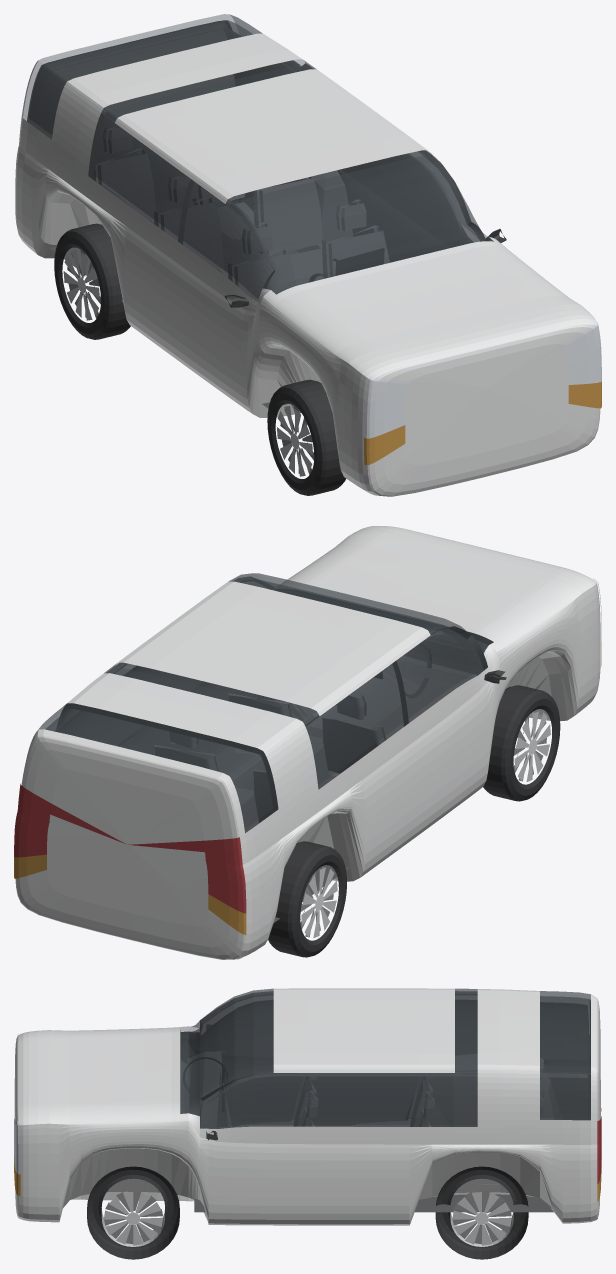
File: vehicle.glb
3 renders of one model, top to bottom at view 1: azimuth 30°, elevation 25°; view 2: azimuth 150°, elevation 25°; view 3: azimuth 270°, elevation 25°, orthographic. The views are drawn at different scales.
Parts seen in each view (by area): view 1: bodyShell, panel_frunkLid, panel_doorFrontLeft, panel_doorRearLeft, cabinShell, panel_liftgate, wheelFrontLeft, wheelRearLeft, seatRearRight, seatThirdLeft, seatRearLeft, seatFrontLeft (+9 smaller); view 2: bodyShell, panel_liftgate, panel_frunkLid, panel_doorRearLeft, panel_doorFrontLeft, wheelFrontLeft, wheelRearLeft, cabinShell, seatFrontLeft, cabinFloor, taillightBar, taillightLeft (+7 smaller); view 3: bodyShell, cabinShell, panel_doorFrontRight, panel_doorRearRight, panel_frunkLid, panel_liftgate, wheelFrontRight, wheelRearRight, dashboard, cabinFloor, seatRearLeft, seatFrontLeft (+1 smaller).
Part boxes in pixels (x1,y1,x2,y2): bodyShell: [27, 33, 600, 496]; panel_frunkLid: [270, 241, 583, 364]; panel_doorFrontLeft: [172, 179, 274, 417]; panel_doorRearLeft: [82, 113, 193, 360]; cabinShell: [46, 27, 471, 273]; panel_liftgate: [15, 14, 262, 250]; wheelFrontLeft: [267, 379, 346, 495]; wheelRearLeft: [54, 223, 130, 339]; seatRearRight: [253, 177, 323, 285]; seatThirdLeft: [93, 126, 156, 222]; seatRearLeft: [154, 175, 228, 277]; seatFrontLeft: [228, 222, 295, 301]; bodyShell: [21, 526, 600, 959]; panel_liftgate: [15, 703, 280, 956]; panel_frunkLid: [280, 532, 583, 646]; panel_doorRearLeft: [306, 661, 414, 881]; panel_doorFrontLeft: [392, 626, 493, 841]; wheelFrontLeft: [483, 685, 560, 801]; wheelRearLeft: [268, 841, 346, 957]; cabinShell: [54, 586, 464, 780]; seatFrontLeft: [322, 694, 386, 775]; cabinFloor: [216, 727, 349, 923]; taillightBar: [18, 784, 241, 854]; taillightLeft: [205, 852, 246, 913]; bodyShell: [14, 988, 599, 1223]; cabinShell: [181, 1000, 589, 1153]; panel_doorFrontRight: [200, 1073, 330, 1225]; panel_doorRearRight: [330, 1073, 477, 1225]; panel_frunkLid: [43, 1027, 180, 1123]; panel_liftgate: [540, 991, 600, 1221]; wheelFrontRight: [87, 1166, 179, 1259]; wheelRearRight: [435, 1166, 528, 1259]; dashboard: [187, 1051, 231, 1128]; cabinFloor: [194, 1127, 553, 1212]; seatRearLeft: [352, 1076, 433, 1126]; seatFrontLeft: [236, 1076, 316, 1127].
Bounding box in the file's own units: 2.29 × 1.82 × 5.19.
